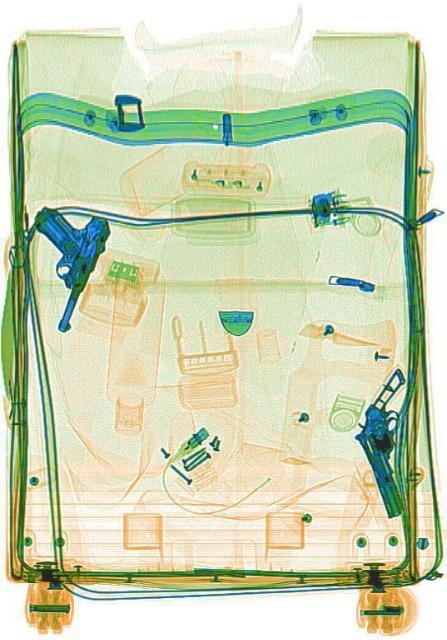Gun: (3, 180, 112, 338), (340, 363, 444, 521)
